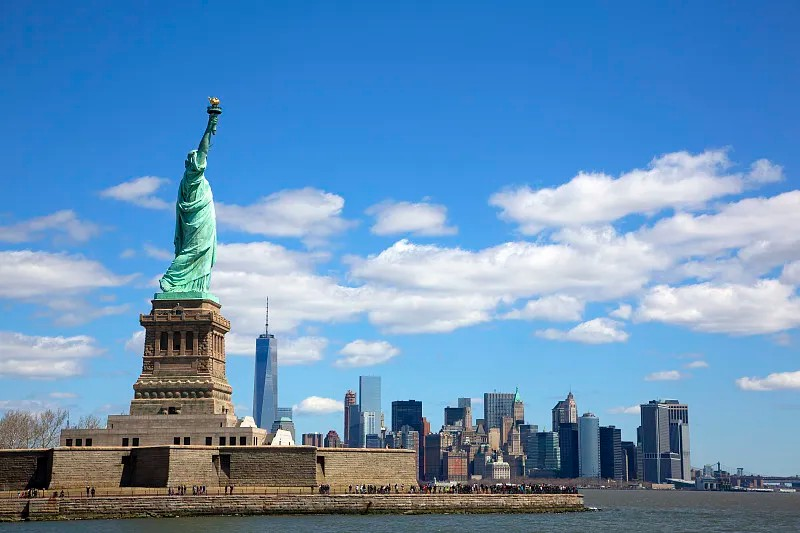SL: (130, 95, 234, 416)
